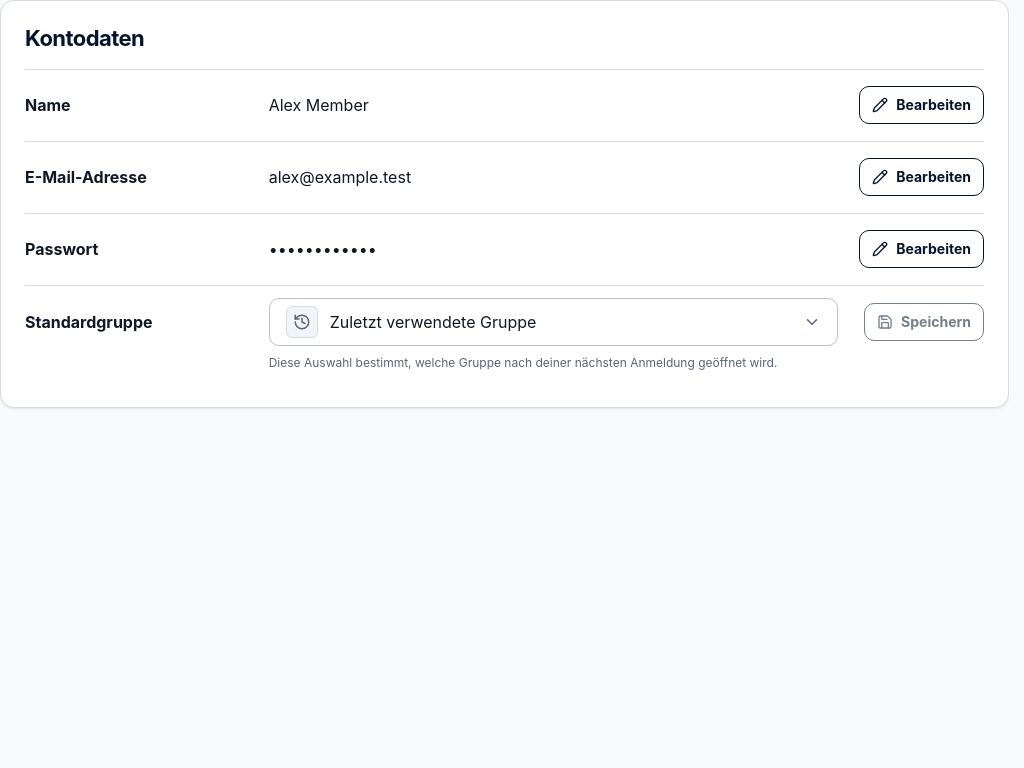
Test: AccountDetailsPanel › requests email verification without changing the current session email
Click the button "Bearbeiten" in the row of "alex@example.test" at (922, 177), box [859, 158, 984, 196]
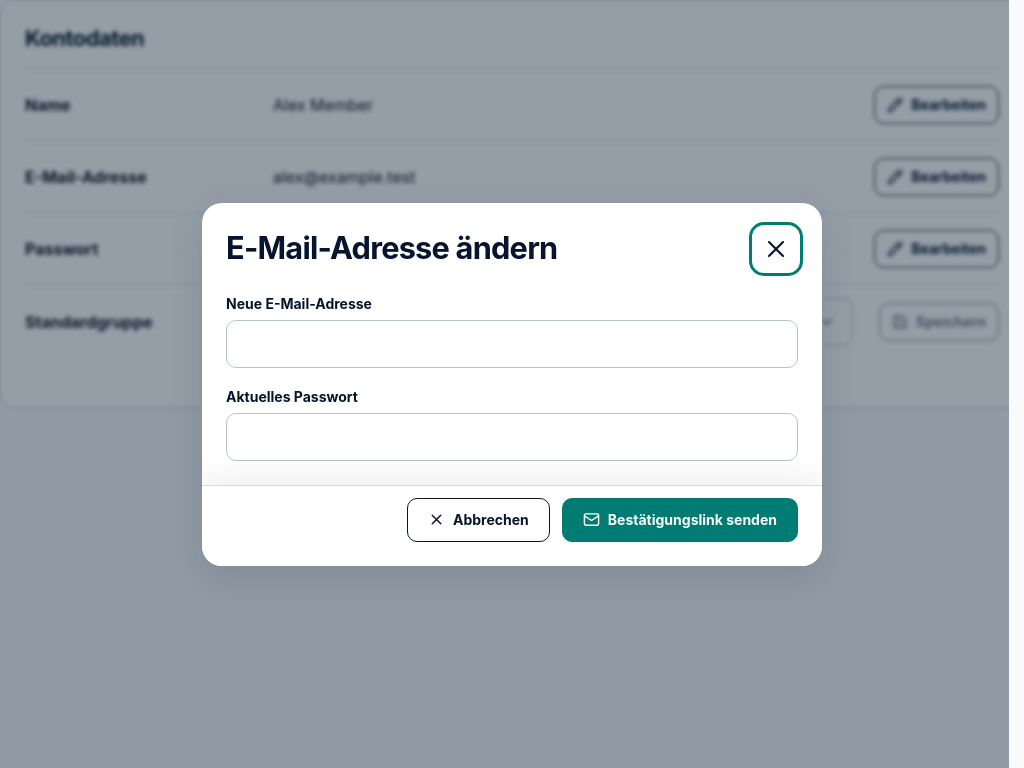
Type "new@example.test" into the field labelled "Neue E-Mail-Adresse" at (512, 344), box [226, 320, 798, 368]
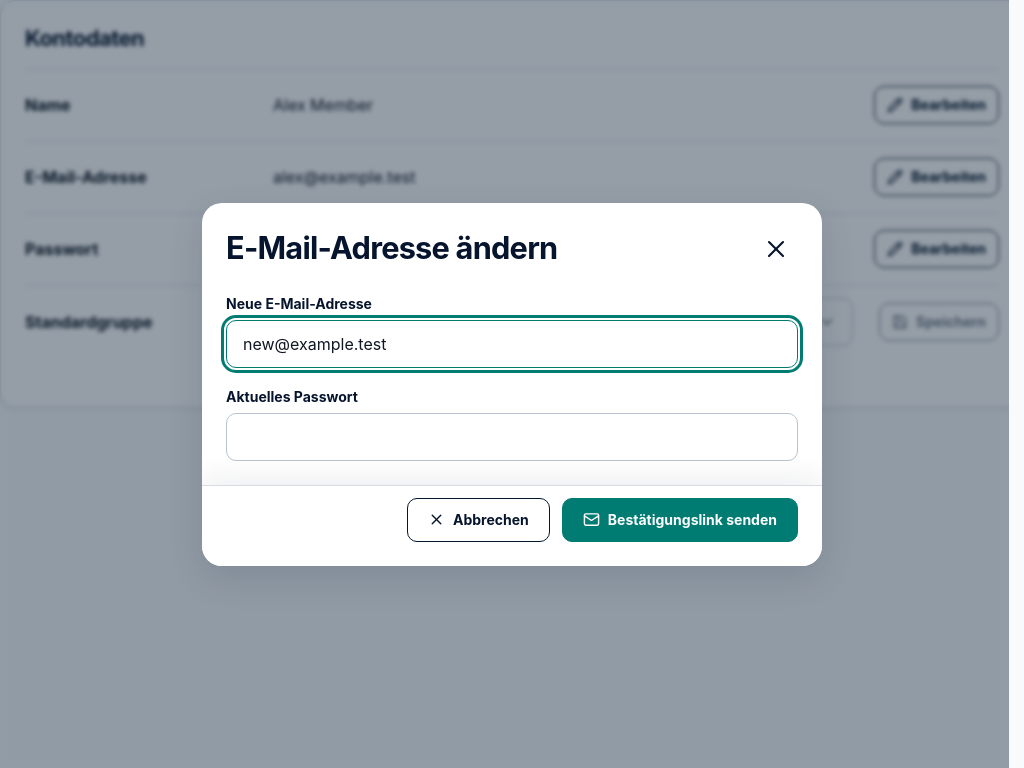
Type "current-passphrase" into the password field labelled "Aktuelles Passwort" at (512, 436), box [226, 412, 798, 460]
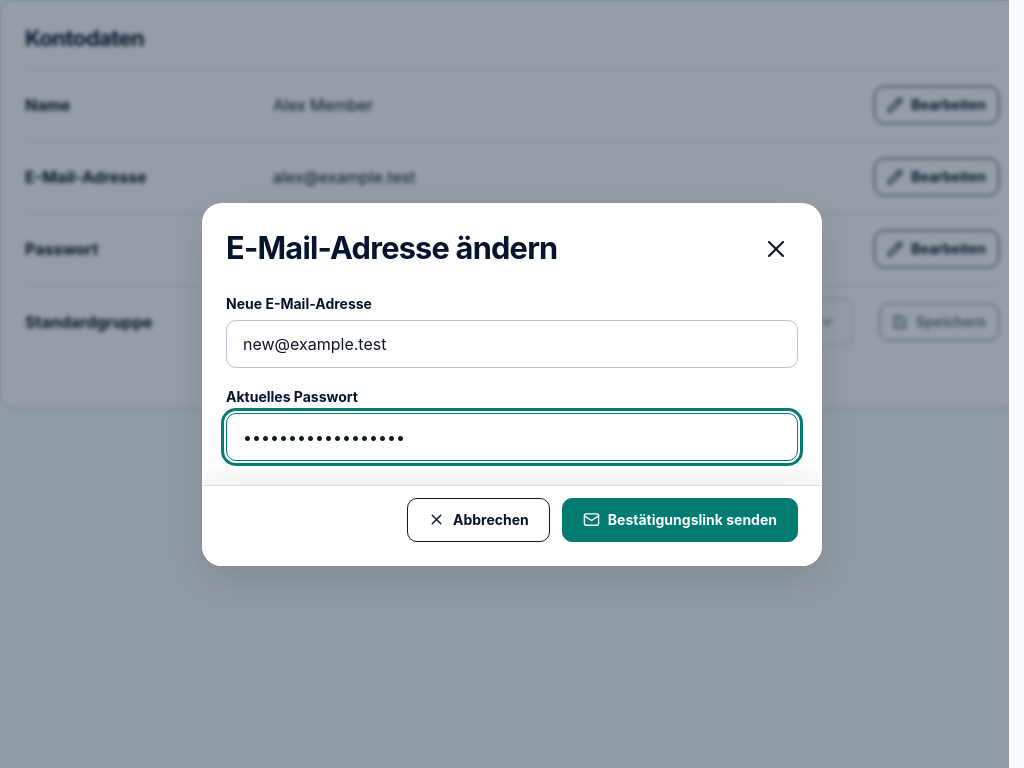
Click the button "Bestätigungslink senden" at (680, 520), box [562, 498, 798, 542]
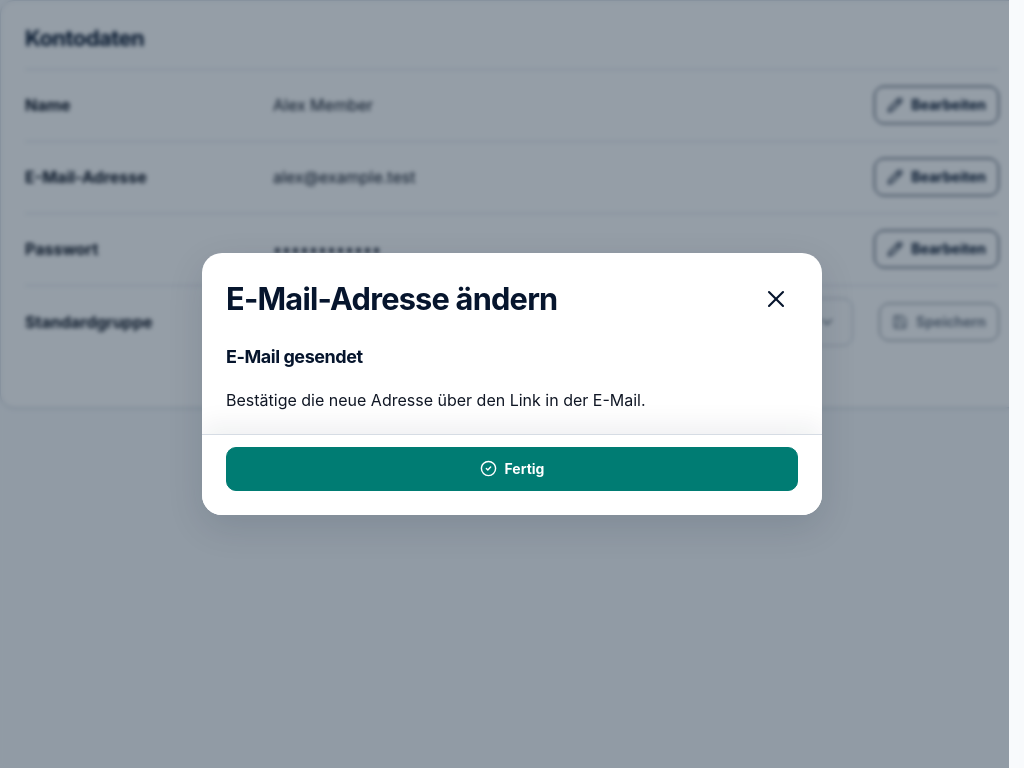
Expected: the text "alex@example.test" is shown, [273, 167, 415, 187]
Result: the text "Bestätige die neue Adresse über den Link in der E-Mail." is shown at [226, 390, 646, 410]
